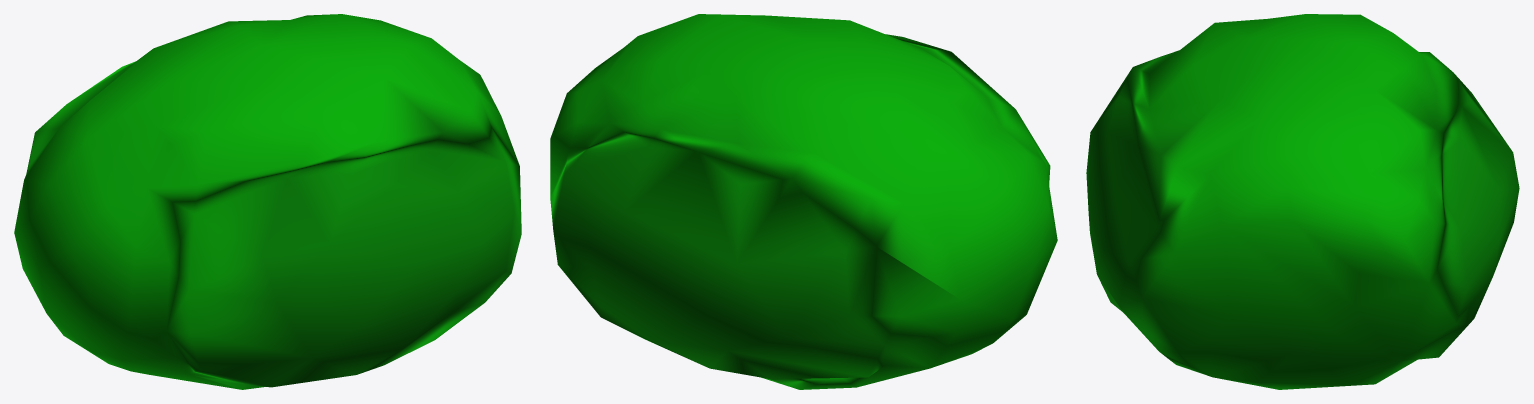
Rendered from rock_small_d.glb.
3 renders of one model, left to right at view 1: azimuth 30°, elevation 25°; view 2: azimuth 150°, elevation 25°; view 3: azimuth 270°, elevation 25°, orthographic.
Visible parts, largest first — view 1: LOD0; view 2: LOD0; view 3: LOD0.
Boxes of the visible parts, x1=… form: LOD0: x1=14, y1=14, x2=521, y2=389; LOD0: x1=550, y1=14, x2=1057, y2=389; LOD0: x1=1086, y1=14, x2=1519, y2=389.
Size of what is drawn, in the model's own units: 0.2348 by 0.1525 by 0.2028.
